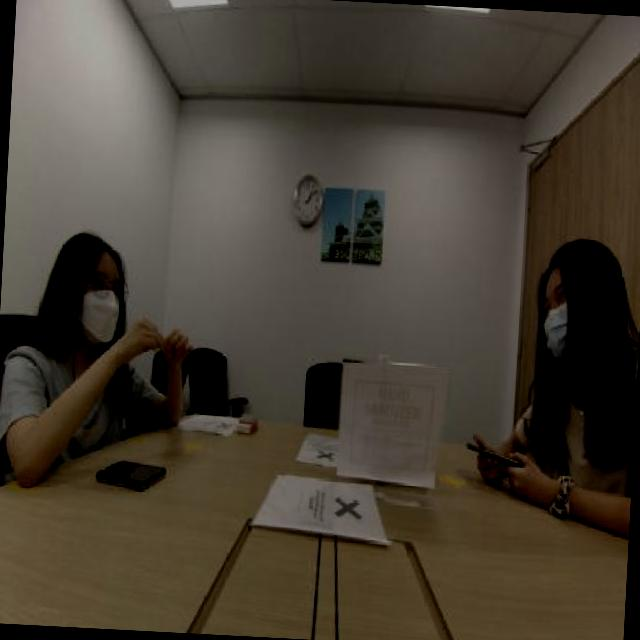Person: (17, 206, 171, 436), (521, 217, 637, 478)
